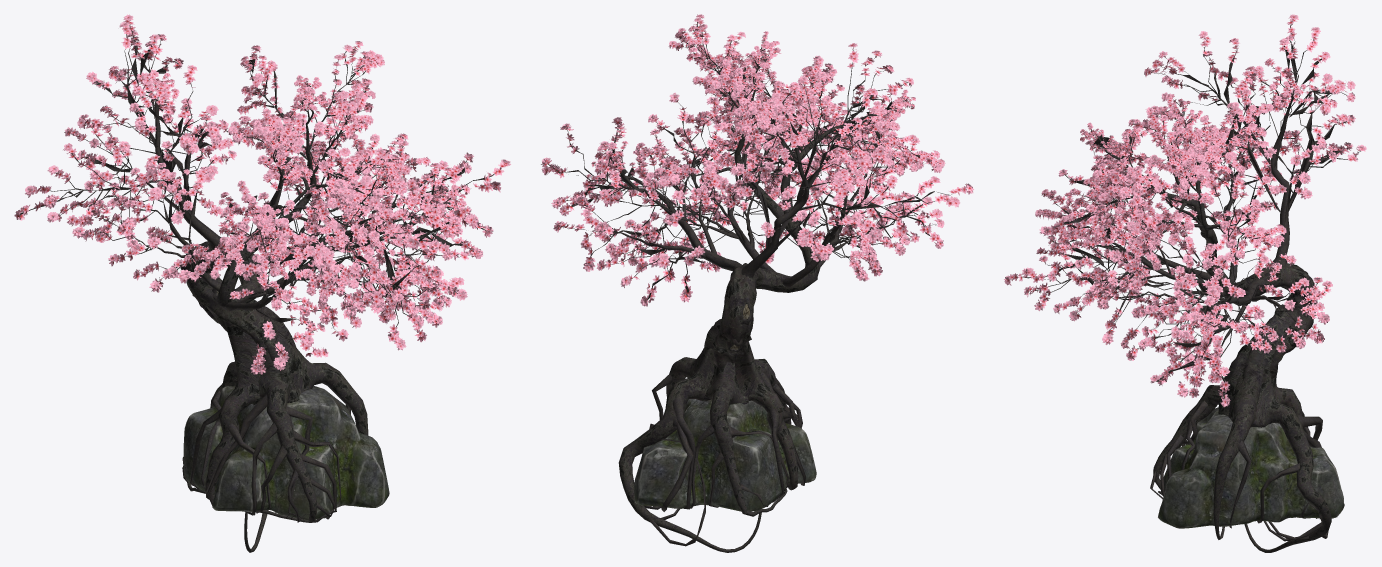
The model's file is cherry-tree.glb.
3 views of the same model, side by side, from view 1: azimuth 30°, elevation 25°; view 2: azimuth 150°, elevation 25°; view 3: azimuth 270°, elevation 25° (orthographic). The views are drawn at different scales.
Parts seen in each view (by area): view 1: cherry-tree > cherry-tree_v176CherryFlower, cherry-tree > cherry-tree_v176CherryBranch01, cherry-tree > cherry-tree_v176FCT_Rock, cherry-tree > cherry-tree_v176CherryBark01, cherry-tree > cherry-tree_v176CherryFlowerStalk; view 2: cherry-tree > cherry-tree_v176CherryFlower, cherry-tree > cherry-tree_v176CherryBranch01, cherry-tree > cherry-tree_v176CherryBark01, cherry-tree > cherry-tree_v176FCT_Rock, cherry-tree > cherry-tree_v176CherryFlowerStalk; view 3: cherry-tree > cherry-tree_v176CherryFlower, cherry-tree > cherry-tree_v176CherryBranch01, cherry-tree > cherry-tree_v176CherryBark01, cherry-tree > cherry-tree_v176FCT_Rock, cherry-tree > cherry-tree_v176CherryFlowerStalk.
Part boxes in pixels (x1,y1,x2,y2): cherry-tree > cherry-tree_v176CherryFlower: (14, 14, 510, 374); cherry-tree > cherry-tree_v176CherryBranch01: (20, 30, 501, 522); cherry-tree > cherry-tree_v176FCT_Rock: (183, 386, 389, 520); cherry-tree > cherry-tree_v176CherryBark01: (180, 86, 368, 552); cherry-tree > cherry-tree_v176CherryFlowerStalk: (40, 24, 500, 341); cherry-tree > cherry-tree_v176CherryFlower: (541, 14, 973, 306); cherry-tree > cherry-tree_v176CherryBranch01: (548, 22, 966, 546); cherry-tree > cherry-tree_v176CherryBark01: (618, 47, 905, 552); cherry-tree > cherry-tree_v176FCT_Rock: (633, 399, 816, 511); cherry-tree > cherry-tree_v176CherryFlowerStalk: (554, 22, 962, 291); cherry-tree > cherry-tree_v176CherryFlower: (1004, 14, 1366, 407); cherry-tree > cherry-tree_v176CherryBranch01: (1011, 21, 1359, 541); cherry-tree > cherry-tree_v176CherryBark01: (1095, 107, 1331, 552); cherry-tree > cherry-tree_v176FCT_Rock: (1158, 407, 1344, 528); cherry-tree > cherry-tree_v176CherryFlowerStalk: (1011, 19, 1360, 380).
Bounding box in the file's own units: 291 × 330 × 223.
Materials: 7 (5 with a texture image).
